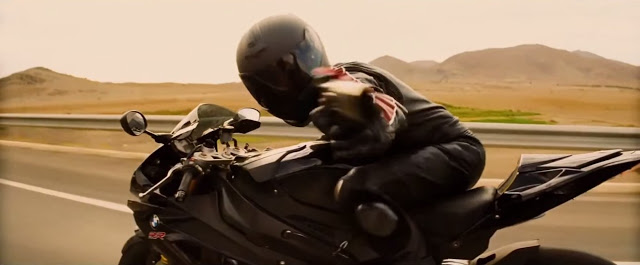helmet: (235, 13, 327, 87)
